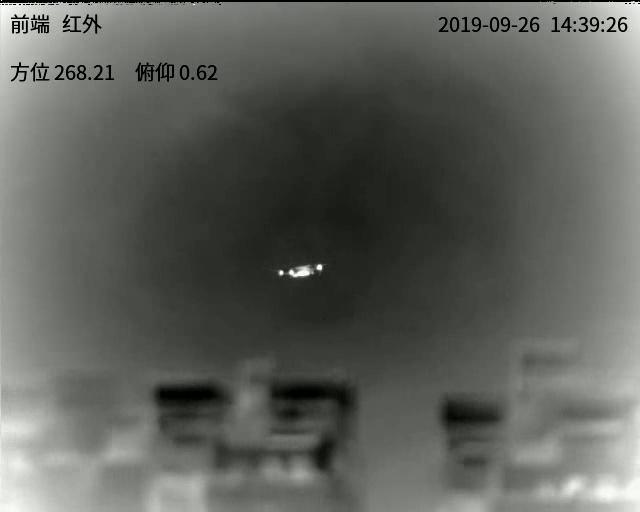DRONE: (275, 261, 324, 279)
